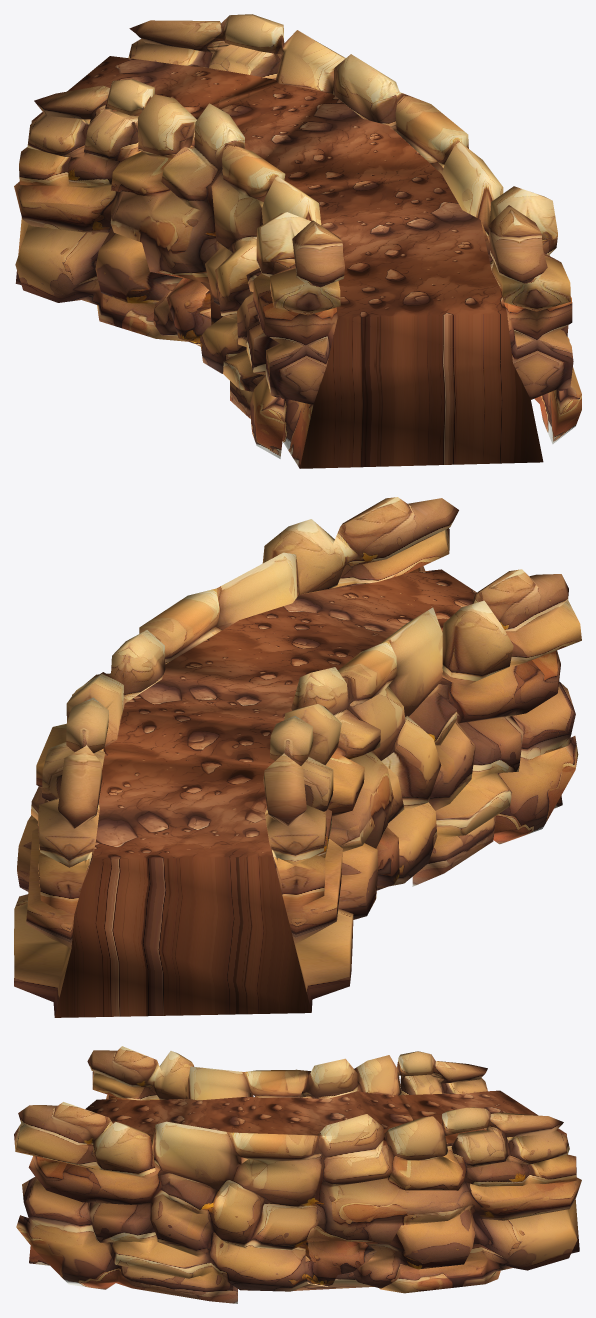
File: wall1.fbx
The picture shows the model from 3 angles, top to bottom: view 1: azimuth 30°, elevation 25°; view 2: azimuth 150°, elevation 25°; view 3: azimuth 270°, elevation 25°; orthographic projection. The views are drawn at different scales.
Parts seen in each view (by area): view 1: Plane.007; view 2: Plane.007; view 3: Plane.007.
Part boxes in pixels (bbox=[...]): Plane.007: bbox=[14, 14, 581, 468]; Plane.007: bbox=[14, 497, 581, 1017]; Plane.007: bbox=[14, 1046, 581, 1303].
Bounding box in the file's own units: 428 × 296 × 859.
Materials: 2 (2 with a texture image).
